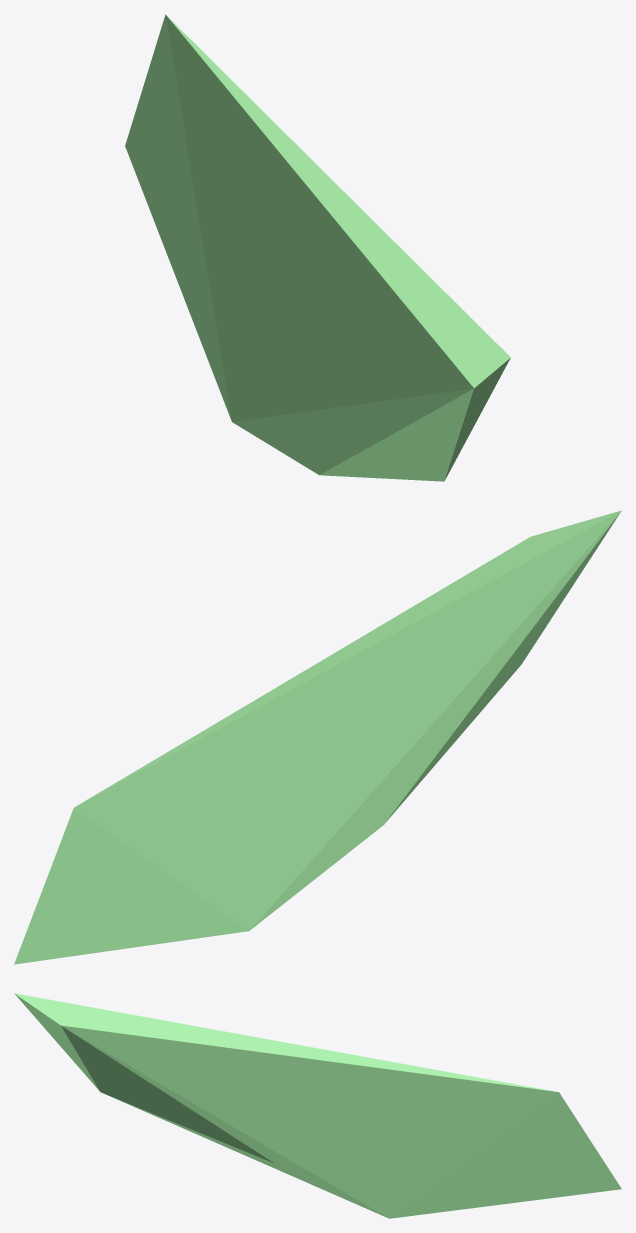
Rendered from spatula_robot_base_coll_2.dae.
3 views of the same model, one above another, from view 1: azimuth 30°, elevation 25°; view 2: azimuth 150°, elevation 25°; view 3: azimuth 270°, elevation 25° (orthographic). The views are drawn at different scales.
Visible parts, largest first — view 1: Node_0x7fe6917b6bb0; view 2: Node_0x7fe6917b6bb0; view 3: Node_0x7fe6917b6bb0.
Boxes of the visible parts, bbox=[...] form: Node_0x7fe6917b6bb0: bbox=[125, 14, 510, 481]; Node_0x7fe6917b6bb0: bbox=[14, 510, 621, 964]; Node_0x7fe6917b6bb0: bbox=[14, 993, 621, 1218].
Size of the model in its own units: 0.01 by 0.013 by 0.0407.
